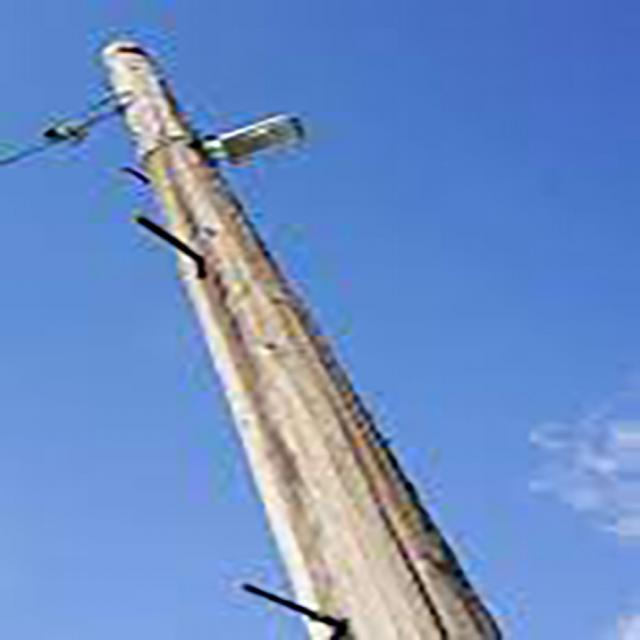pole: (71, 21, 525, 640)
